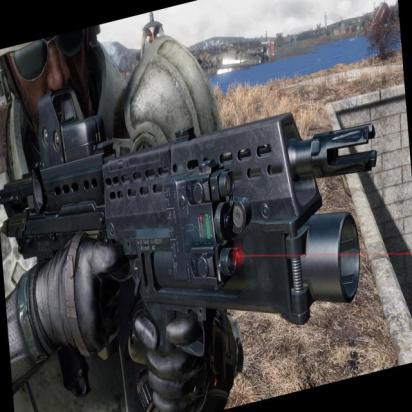Gun: (0, 86, 402, 337)
